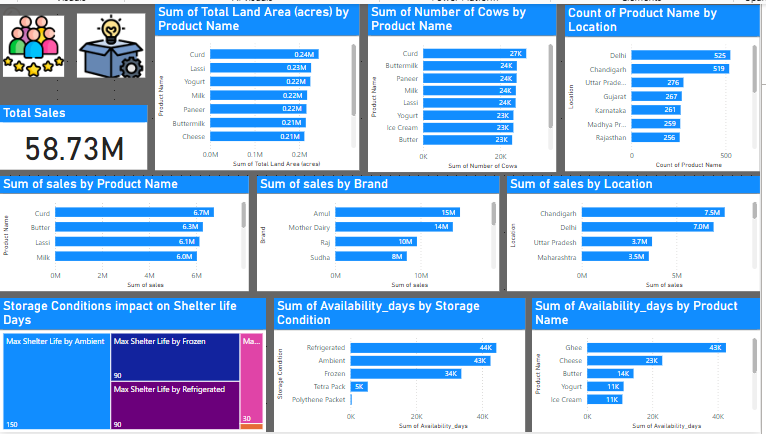

Layout of this report page (visuals, bound fields, positions):
{"tool":"powerbi","page":{"name":"DairyFarmPerformances","canvas":[1280,720],"ordinal":0},"visuals":[{"type":"barChart","fields":{"Y":["Sum(dairy_dataset.Total Land Area (acres))"],"Category":["dairy_dataset.Product Name"]},"box":[261.1,0,343.6,279.6],"z":0},{"type":"barChart","fields":{"Category":["dairy_dataset.Location"],"Y":["CountNonNull(dairy_dataset.Product Name)"]},"box":[951.6,1.7,328.4,279.6],"z":1000},{"type":"barChart","fields":{"Category":["dairy_dataset.Product Name"],"Y":["Sum(dairy_dataset.Number of Cows)"]},"box":[619.8,0,316.6,282.9],"z":2000},{"type":"barChart","fields":{"Y":["Sum(dairy_dataset.sales)"],"Category":["dairy_dataset.Product Name"]},"box":[0,289.7,419.4,193.7],"z":3000},{"type":"card","title":"Total Sales","fields":{"Values":["Sum(dairy_dataset.sales)"]},"box":[0,170.1,247.6,109.5],"z":4000},{"type":"barChart","fields":{"Y":["Sum(dairy_dataset.sales)"],"Category":["dairy_dataset.Brand"]},"box":[432.8,289.7,407.6,193.7],"z":5000},{"type":"barChart","fields":{"Y":["Sum(dairy_dataset.sales)"],"Category":["dairy_dataset.Location"]},"box":[853.9,289.7,426.1,193.7],"z":6000},{"type":"treemap","title":"Storage Conditions impact on Shelter life Days","fields":{"Values":["dairy_dataset.Max Shelter Life by Ambient","dairy_dataset.Max Shelter Life by Frozen","dairy_dataset.Max Shelter Life by Polythene Packet","dairy_dataset.Max Shelter Life by Refrigerated","dairy_dataset.Max Shelter Life by Tetra Pack"]},"box":[0,495.2,448,225.7],"z":6001},{"type":"actionButton","box":[0,0,100,40],"z":6007},{"type":"barChart","fields":{"Category":["dairy_dataset.Storage Condition"],"Y":["Sum(dairy_dataset.Availability_days)"]},"box":[461.5,495.2,422.7,225.7],"z":6008},{"type":"barChart","fields":{"Category":["dairy_dataset.Product Name"],"Y":["Sum(dairy_dataset.Availability_days)"]},"box":[896,495.2,384,225.7],"z":6009},{"type":"image","box":[0,1.7,112.8,138.1],"z":6010},{"type":"image","box":[124.6,0,124.6,139.8],"z":6011}]}

Visuals, with their boxes in screenshot pixels (x1, y1, x2, y2), scaled from the page's 1280x720 canvas onto the 766x434 screenshot:
barChart - Sum(dairy_dataset.Total Land Area (acres)) x dairy_dataset.Product Name: {"x1": 156, "y1": 0, "x2": 362, "y2": 169}
barChart - dairy_dataset.Location x CountNonNull(dairy_dataset.Product Name): {"x1": 569, "y1": 1, "x2": 765, "y2": 170}
barChart - dairy_dataset.Product Name x Sum(dairy_dataset.Number of Cows): {"x1": 371, "y1": 0, "x2": 560, "y2": 171}
barChart - Sum(dairy_dataset.sales) x dairy_dataset.Product Name: {"x1": 0, "y1": 175, "x2": 251, "y2": 291}
"Total Sales" card: {"x1": 0, "y1": 103, "x2": 148, "y2": 169}
barChart - Sum(dairy_dataset.sales) x dairy_dataset.Brand: {"x1": 259, "y1": 175, "x2": 503, "y2": 291}
barChart - Sum(dairy_dataset.sales) x dairy_dataset.Location: {"x1": 511, "y1": 175, "x2": 765, "y2": 291}
"Storage Conditions impact on Shelter life Days" treemap: {"x1": 0, "y1": 298, "x2": 268, "y2": 433}
actionButton: {"x1": 0, "y1": 0, "x2": 60, "y2": 24}
barChart - dairy_dataset.Storage Condition x Sum(dairy_dataset.Availability_days): {"x1": 276, "y1": 298, "x2": 529, "y2": 433}
barChart - dairy_dataset.Product Name x Sum(dairy_dataset.Availability_days): {"x1": 536, "y1": 298, "x2": 765, "y2": 433}
image: {"x1": 0, "y1": 1, "x2": 68, "y2": 84}
image: {"x1": 75, "y1": 0, "x2": 149, "y2": 84}
